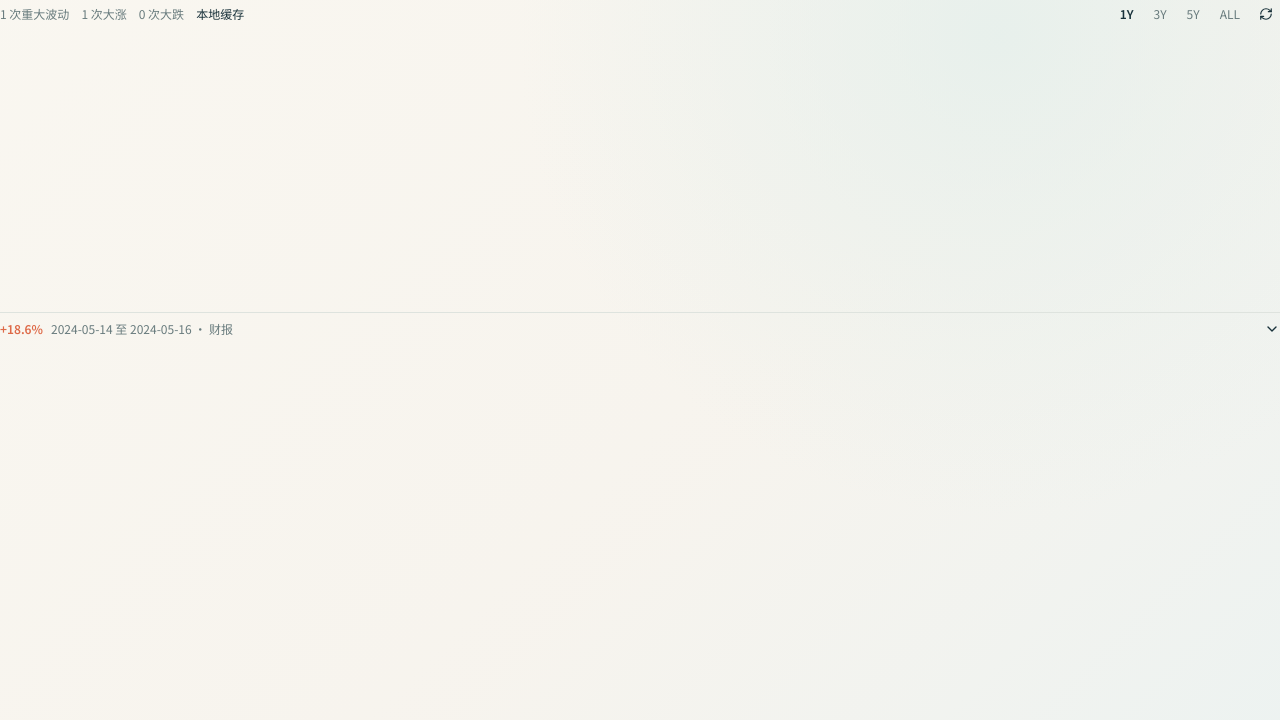
it: HistoricalEventsView › opens an immediate summary and traceable evidence
Step 1. Click the button with aria-label "打开2024-05-14重大事件" → (82, 328), box [0,321,1279,337]
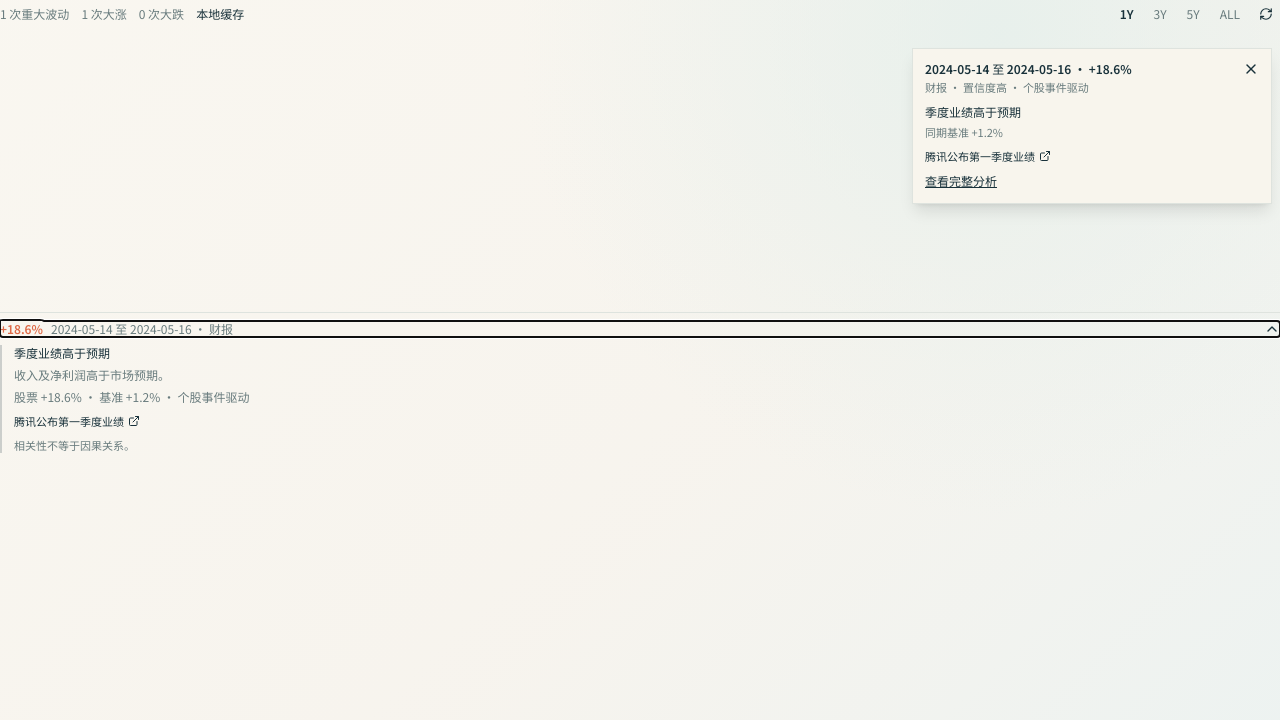
Now the button named "关闭事件摘要" is shown, box [1243,61,1259,77]
